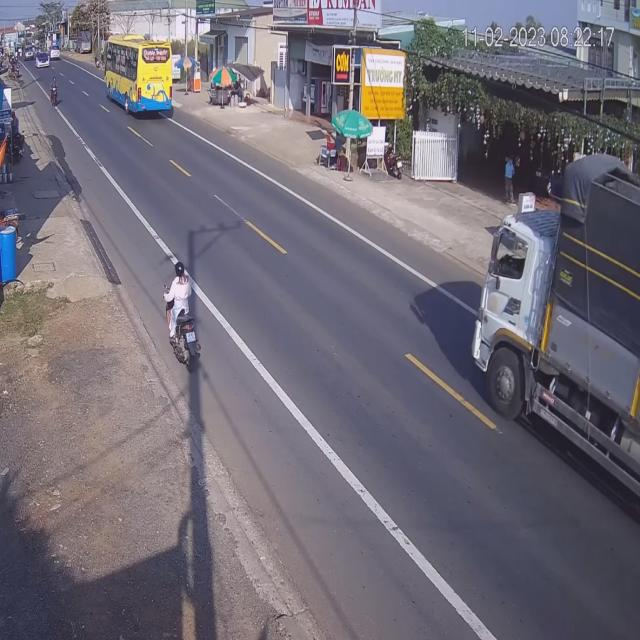bus: (103, 33, 173, 118)
motorbike: (164, 262, 198, 370), (48, 78, 58, 108)
truck: (477, 181, 640, 547)
